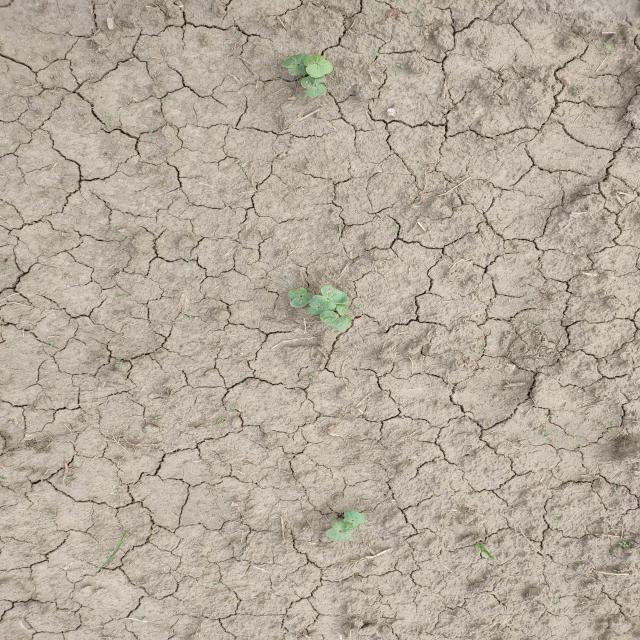seedling_s2: (320, 310, 349, 331), (321, 285, 348, 304), (306, 60, 333, 78), (282, 53, 310, 68), (312, 295, 336, 311), (291, 293, 314, 308), (301, 76, 325, 89), (336, 304, 352, 323), (326, 529, 351, 541), (344, 510, 366, 523), (308, 298, 331, 310), (306, 84, 326, 97), (287, 287, 307, 300), (332, 521, 353, 533), (303, 55, 325, 66), (288, 64, 307, 76), (342, 519, 359, 530), (307, 307, 326, 314)
